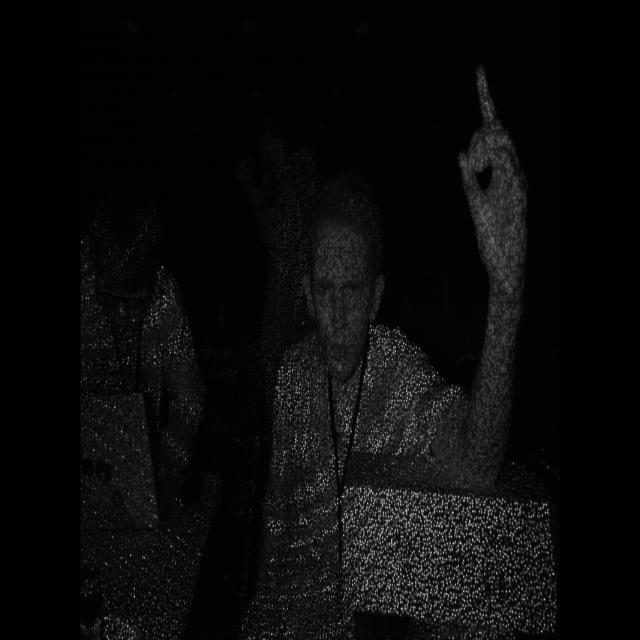D: (449, 58, 540, 310)
